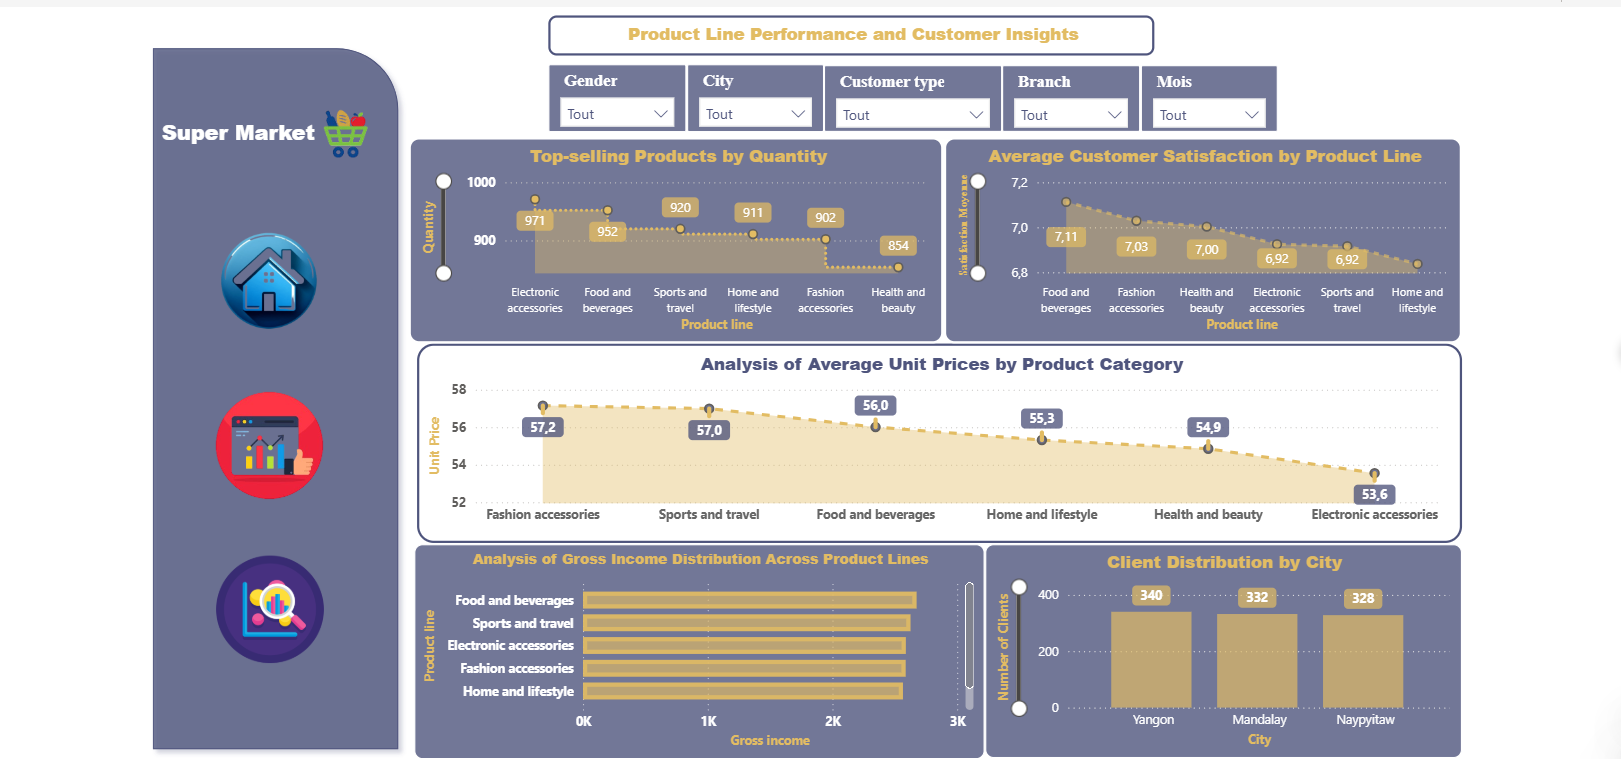

This screenshot's page, from the dashboard's own definition file:
{"tool":"powerbi","page":{"name":"Product Line Performance","canvas":[1280,720],"ordinal":1},"visuals":[{"type":"barChart","title":"Analysis of Gross Income Distribution Across Product Lines","fields":{"Category":["supermarket_sales.Product line"],"Y":["Sum(supermarket_sales.gross income)"]},"box":[269.5,514.5,546.2,206.1],"z":0},{"type":"shape","box":[9.8,30.7,253.1,689.3],"z":1000},{"type":"textbox","title":"Super Market","box":[22.1,104.7,172.1,31.4],"z":2000},{"type":"image","box":[153.5,74.4,101.2,93],"z":3000},{"type":"image","box":[65.1,201.2,129.1,125.6],"z":4000},{"type":"image","box":[70.9,359.3,118.6,120.9],"z":5000},{"type":"image","box":[70.9,514,119.8,124.4],"z":6000},{"type":"lineChart","title":"Analysis of Average Unit Prices by Product Category","fields":{"Category":["supermarket_sales.Product line"],"Y":["supermarket_sales.Average Unit Price"]},"box":[271.6,322.5,1000.8,191.2],"z":7000},{"type":"stackedAreaChart","title":"Average Customer Satisfaction by Product Line","fields":{"Category":["supermarket_sales.Product line"],"Y":["branch.Satisfaction Moyenne"]},"box":[776.4,124.9,495.9,197.6],"z":8000},{"type":"lineStackedColumnComboChart","title":"Client Distribution by City","fields":{"Category":["supermarket_sales.City"],"Y":["branch.Number of Clients by City"]},"box":[815.7,514.5,456,204.8],"z":9000},{"type":"lineChart","title":"Top-selling Products by Quantity","fields":{"Category":["supermarket_sales.Product line"],"Y":["Sum(supermarket_sales.Quantity)"]},"box":[263.9,124.9,512.5,197.6],"z":10000},{"type":"slicer","fields":{"Values":["supermarket_sales.Date.Variation.Hiérarchie de dates.Mois"]},"box":[965.1,56.1,131.3,63.7],"z":11000},{"type":"slicer","fields":{"Values":["supermarket_sales.Branch"]},"box":[832.5,56.1,132.6,63.7],"z":12000},{"type":"slicer","fields":{"Values":["supermarket_sales.City"]},"box":[530.4,54.8,131.3,65],"z":13000},{"type":"slicer","fields":{"Values":["supermarket_sales.Customer type"]},"box":[661.7,56.1,170.8,63.7],"z":14000},{"type":"slicer","fields":{"Values":["supermarket_sales.Gender"]},"box":[397.8,54.8,132.6,65],"z":15000},{"type":"textbox","title":"Product Line Performance and Customer Insights","box":[397.8,7.6,580.1,38.2],"z":16000}]}

Visuals, with their boxes in screenshot pixels (x1, y1, x2, y2):
"Analysis of Gross Income Distribution Across Product Lines" barChart: bbox(416, 540, 984, 754)
shape: bbox(145, 36, 409, 754)
"Super Market" textbox: bbox(158, 113, 337, 146)
image: bbox(295, 82, 400, 178)
image: bbox(203, 214, 337, 344)
image: bbox(209, 378, 332, 504)
image: bbox(209, 539, 334, 669)
"Analysis of Average Unit Prices by Product Category" lineChart: bbox(418, 340, 1459, 539)
"Average Customer Satisfaction by Product Line" stackedAreaChart: bbox(943, 134, 1459, 340)
"Client Distribution by City" lineStackedColumnComboChart: bbox(984, 540, 1459, 753)
"Top-selling Products by Quantity" lineChart: bbox(410, 134, 943, 340)
slicer - supermarket_sales.Date.Variation.Hiérarchie de dates.Mois: bbox(1140, 63, 1276, 129)
slicer - supermarket_sales.Branch: bbox(1002, 63, 1140, 129)
slicer - supermarket_sales.City: bbox(687, 61, 824, 129)
slicer - supermarket_sales.Customer type: bbox(824, 63, 1002, 129)
slicer - supermarket_sales.Gender: bbox(549, 61, 687, 129)
"Product Line Performance and Customer Insights" textbox: bbox(549, 12, 1153, 52)
